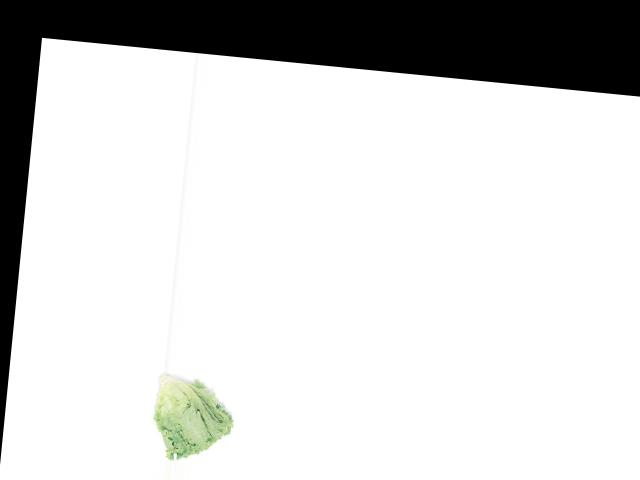lettuce: (143, 369, 245, 466)
